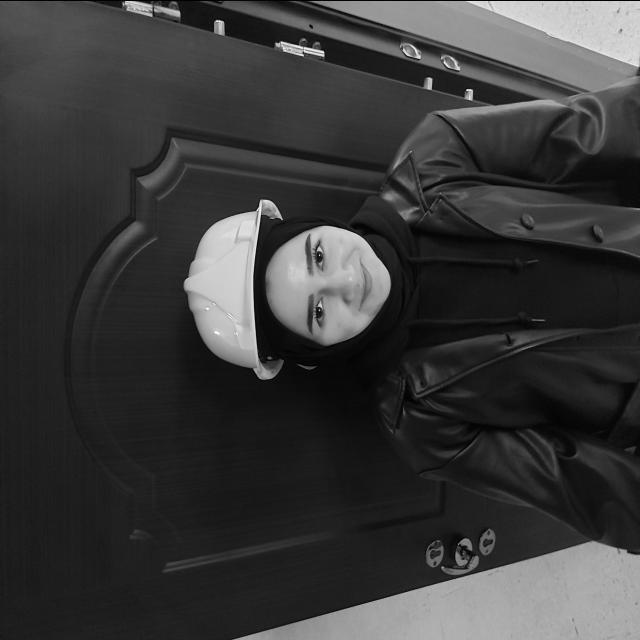safety_helmet: (184, 196, 288, 380)
